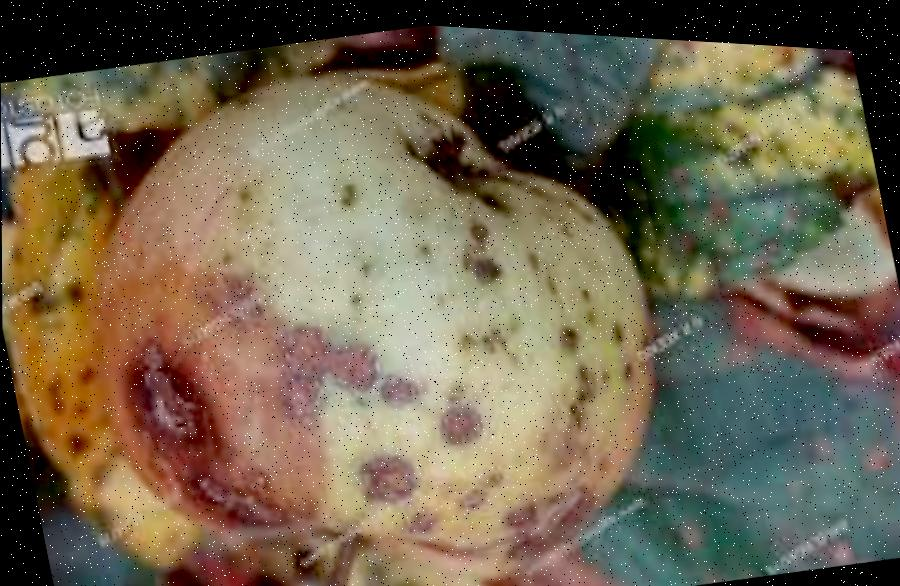SCAB: (68, 11, 694, 586)
